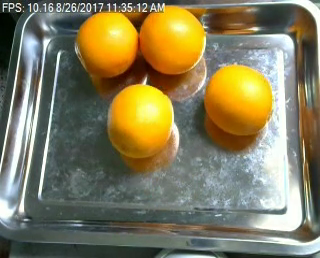Orange: (106, 83, 174, 159), (203, 63, 274, 134), (140, 5, 207, 75), (75, 12, 139, 77)
